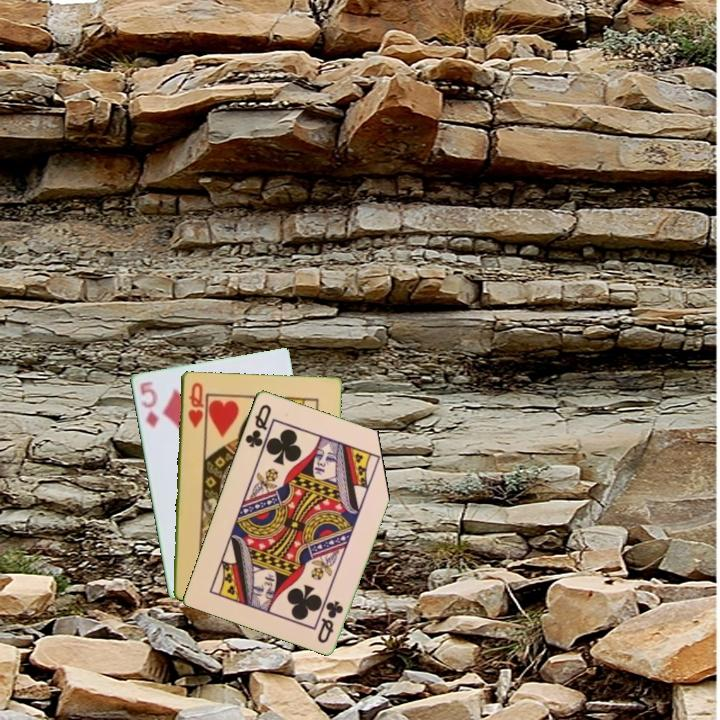5d: (136, 378, 161, 431)
Qc: (241, 400, 274, 450), (313, 597, 346, 646)
Qh: (184, 379, 205, 431)
